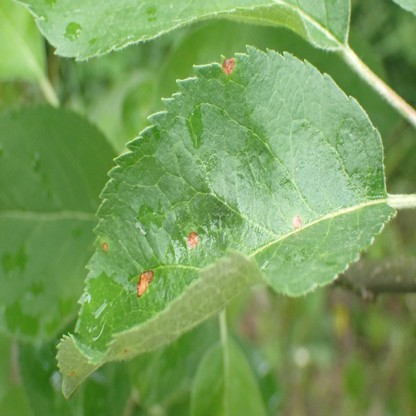frogeye: (136, 270, 154, 296), (188, 230, 198, 248), (223, 58, 234, 74), (292, 215, 302, 228), (103, 243, 107, 251)
